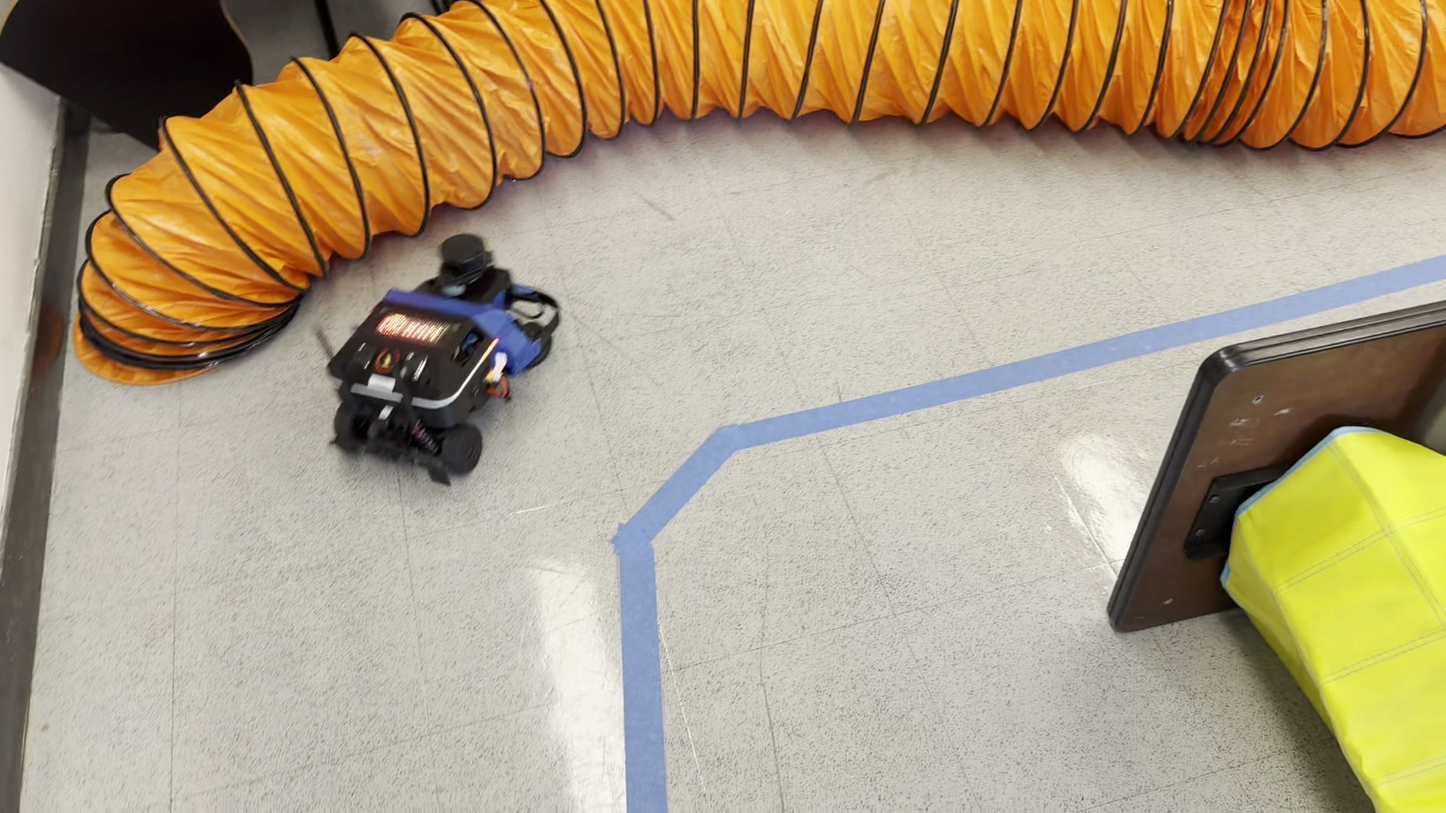racecar: (324, 232, 562, 485)
